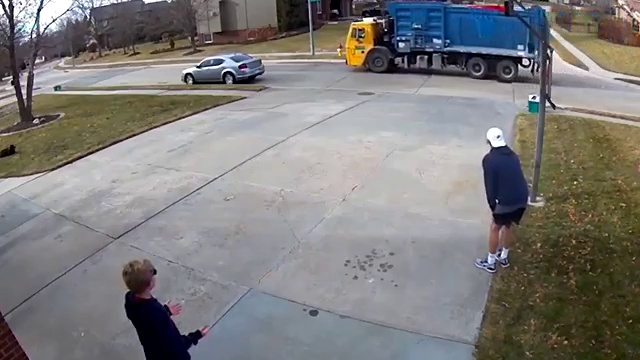face: (139, 263, 158, 288)
